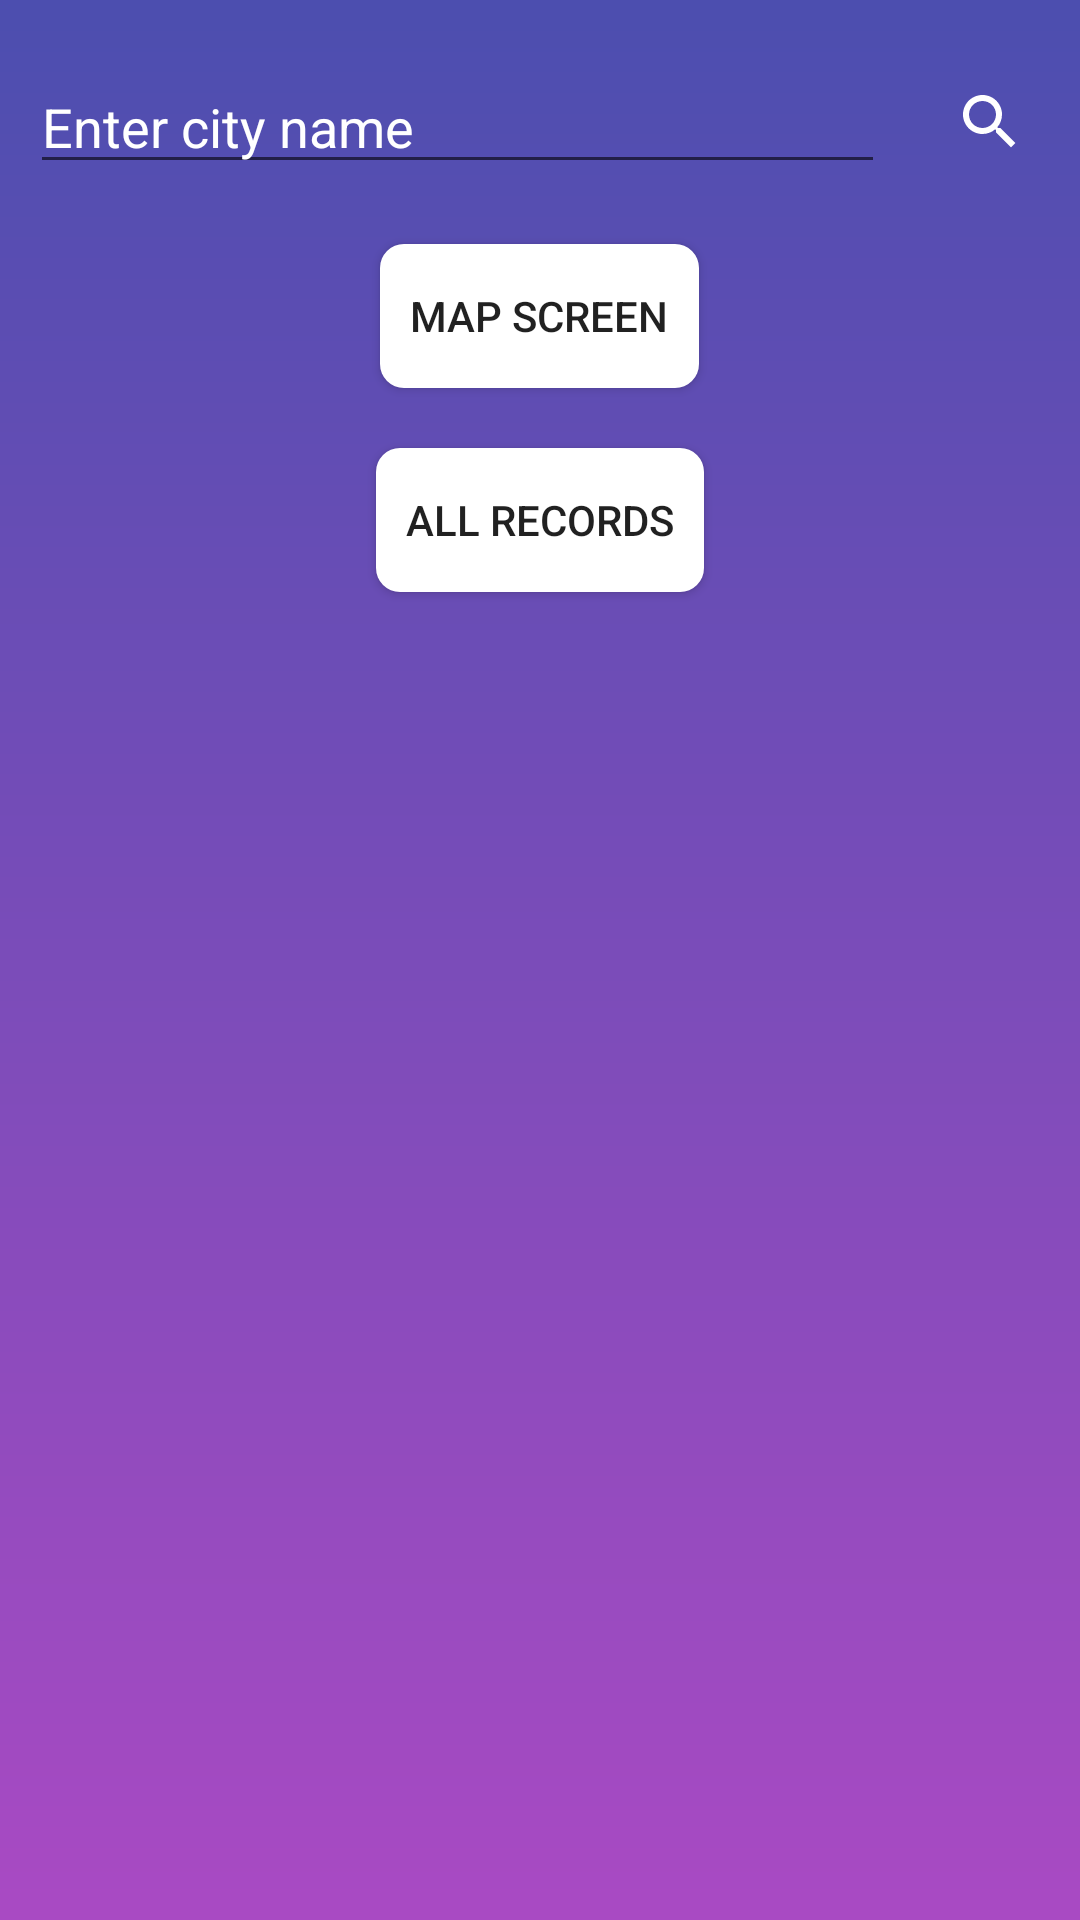

Icon bounding boxes for this 1080 × 1920 phone screenshot, format (x1, y1, x2, y2):
search: (963, 95, 1015, 147)
